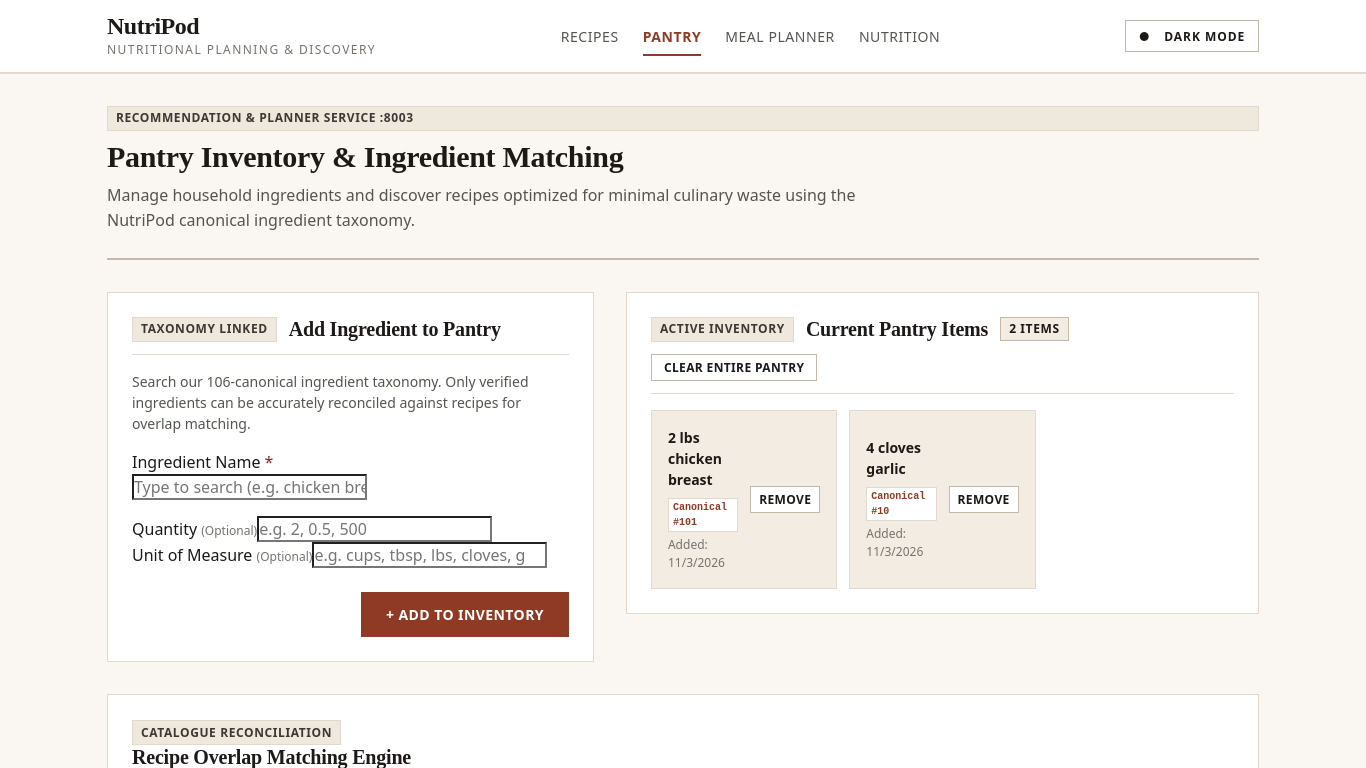
Test: Guest Pantry Management & Recipe Ingredient Matching (Step 05.5) › 8. queries GET /api/v1/ingredients/suggestions on typing
The width and height of the screenshot is (1366, 768).
Step 1. Type "chick" into the field with test id "ingredient-search-input" → (250, 487), box [132,474,367,500]
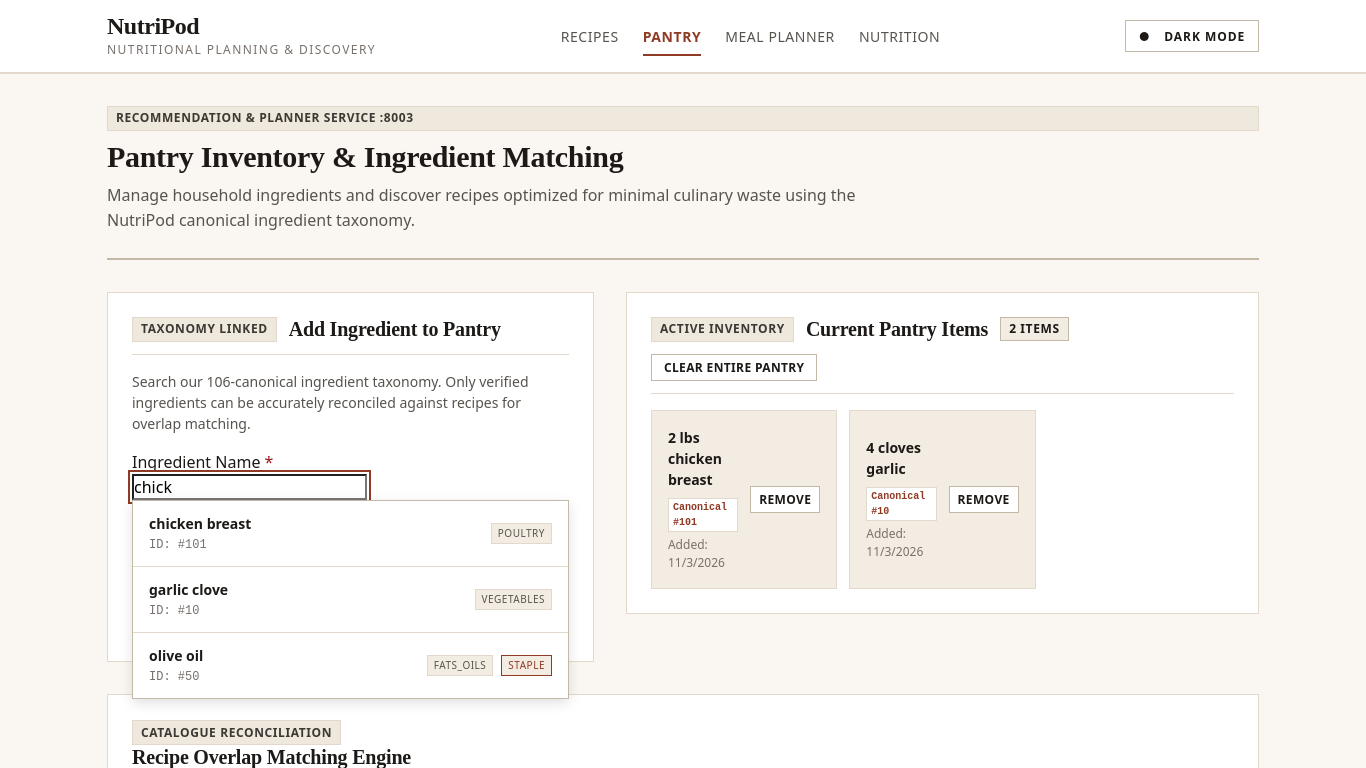
Expected: the list with test id "suggestions-dropdown" is shown, [132,500,569,699]
